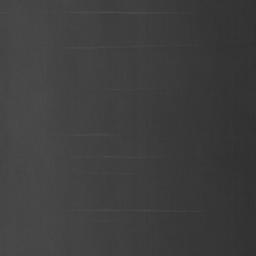Waist folding: (64, 44, 192, 50), (72, 209, 200, 214), (64, 11, 192, 15), (86, 170, 135, 177), (110, 88, 165, 94), (103, 155, 148, 160), (70, 133, 110, 137)
